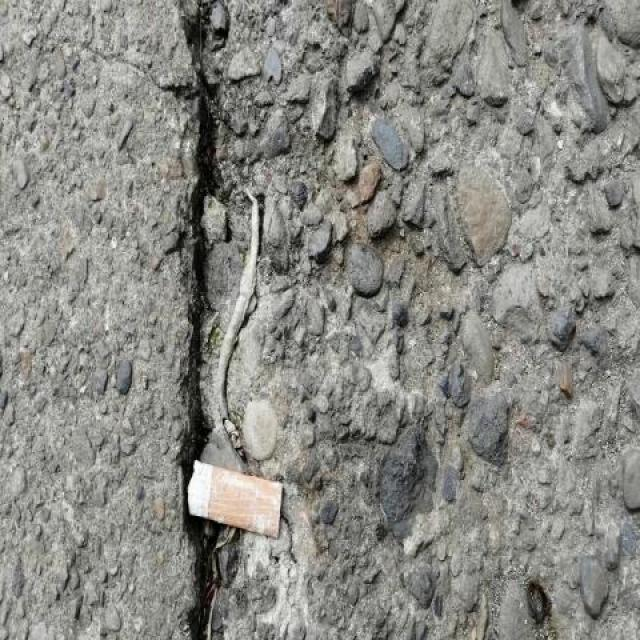non-organic waste: (183, 458, 288, 541)
